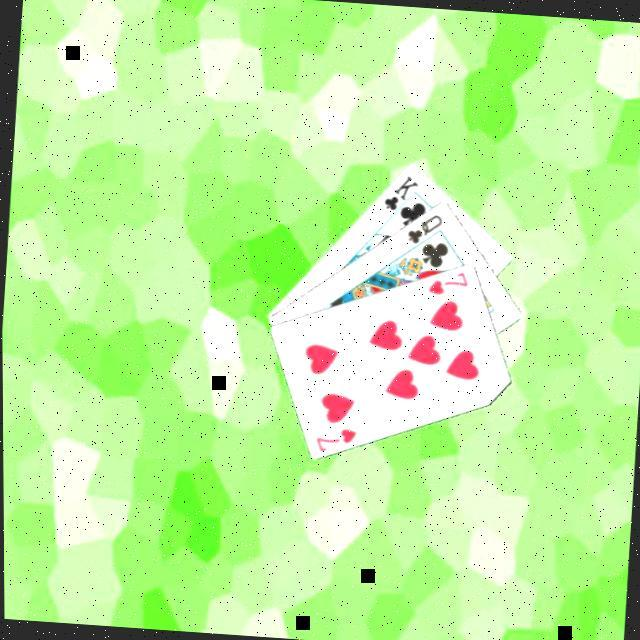7H: (309, 420, 357, 455), (421, 264, 469, 297)
KC: (377, 168, 419, 221)
QC: (401, 206, 443, 246)
